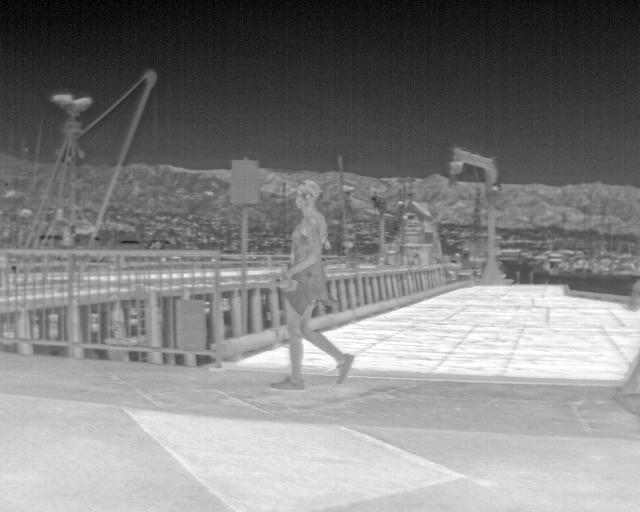empty: (269, 178, 355, 392)
